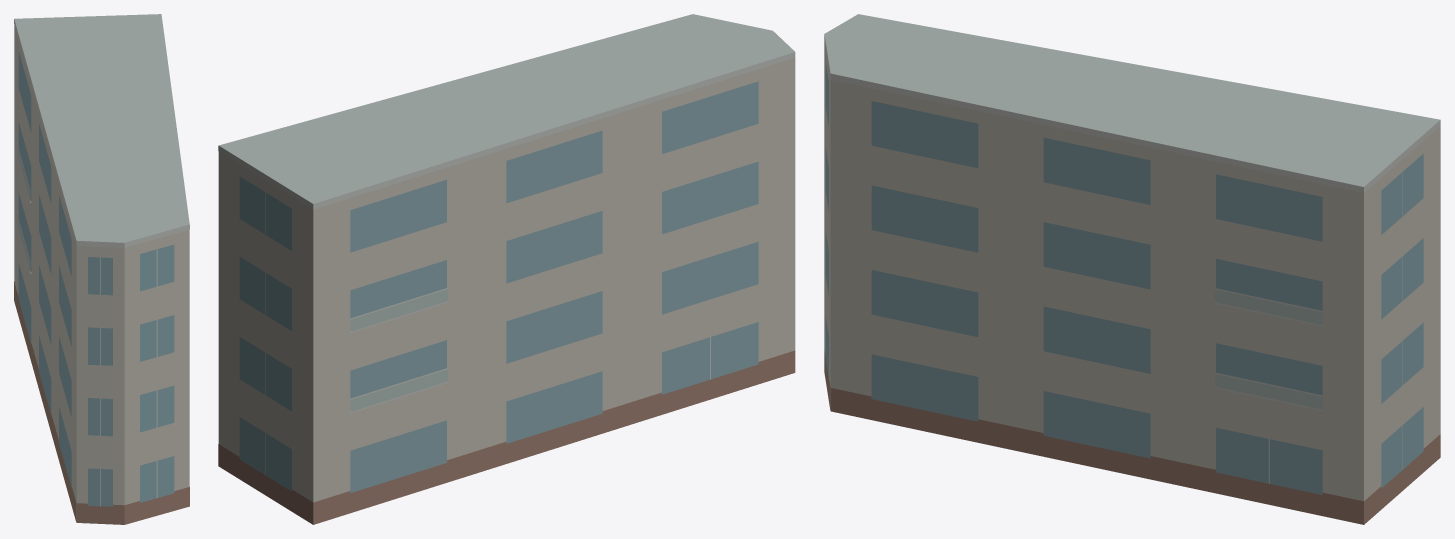
Rendered from survey-upis-32732227.glb.
3 views of the same model, side by side, from view 1: azimuth 30°, elevation 25°; view 2: azimuth 150°, elevation 25°; view 3: azimuth 270°, elevation 25° (orthographic). The views are drawn at different scales.
Visible parts, largest first — view 1: survey-upis-32732227.tmp; view 2: survey-upis-32732227.tmp; view 3: survey-upis-32732227.tmp.
Boxes of the visible parts, bbox=[...] form: survey-upis-32732227.tmp: bbox=[14, 14, 189, 524]; survey-upis-32732227.tmp: bbox=[218, 14, 795, 524]; survey-upis-32732227.tmp: bbox=[824, 14, 1440, 524].
Size of the model in its own units: 15 by 13.65 by 22.57.
